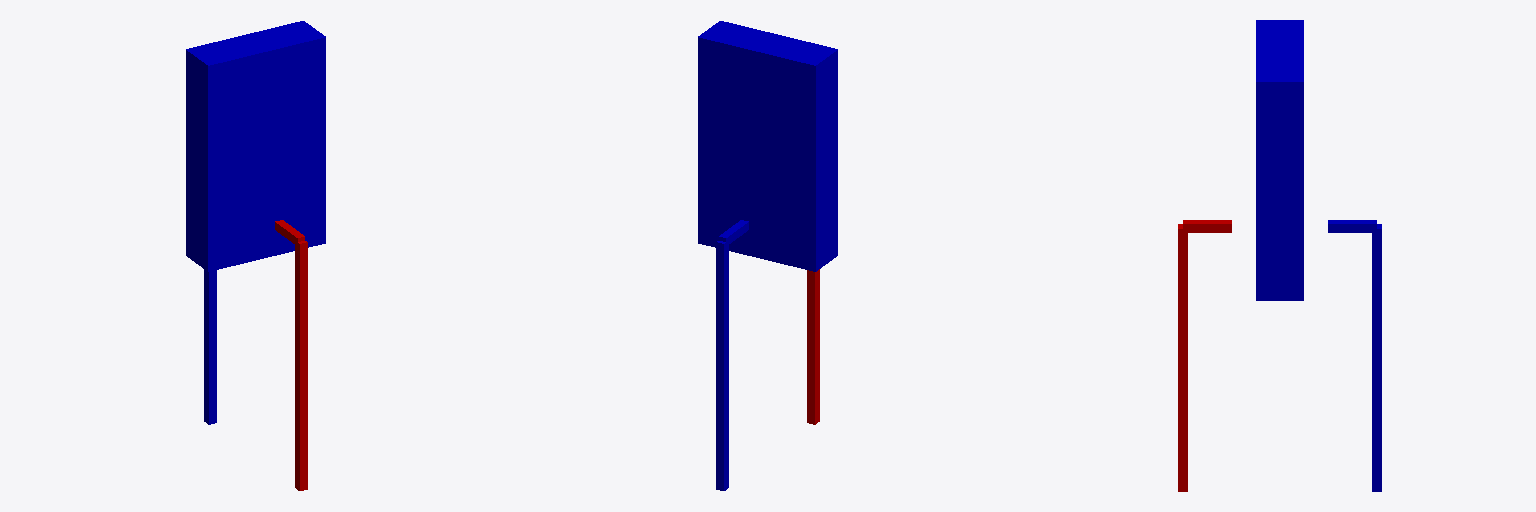
URDF robot description (Airbot):
<?xml version="1.0" ?>
<!-- =================================================================================== -->
<!-- |    This document was autogenerated by xacro from airbot4.xacro                  | -->
<!-- |    EDITING THIS FILE BY HAND IS NOT RECOMMENDED                                 | -->
<!-- =================================================================================== -->
<robot name="Airbot" xmlns:xacro="http://www.ros.org/wiki/xacro">
  <!--Structural Properties-->
  <link name="baselink"/>
  <link name="airbase">
    <visual>
      <origin rpy="0 0 0" xyz="0.0 0.0 0.05"/>
      <geometry>
        <!--mesh filename="package://gcop_urdf/meshes/pelican1.dae" scale="0.025 0.025 0.025"/-->
        <box size="0.3 0.1 0.5"/>
      </geometry>
      <material name="blue">
        <color rgba="0 0 0.8 1"/>
      </material>
    </visual>
    <inertial>
      <mass value="3"/>
      <inertia ixx="0.01296" ixy="0.0" ixz="0.0" iyy="0.01296" iyz="0.0" izz="0.02523"/>
    </inertial>
  </link>
  <link name="link1">
    <visual>
      <origin rpy="0 0 0" xyz="0.0 0.05 0.0"/>
      <material name="blue">
        <color rgba="0 0 0.8 1"/>
      </material>
      <geometry>
        <box size="0.02 0.1 0.02"/>
      </geometry>
    </visual>
    <inertial>
      <origin rpy="0 0 0" xyz="0.0 0.05 0.0"/>
      <mass value="0.1"/>
      <inertia ixx="0.000346666666667" ixy="0.0" ixz="0.0" iyy="2.66666666667e-05" iyz="0.0" izz="0.000346666666667"/>
    </inertial>
  </link>
  <link name="link2">
    <visual>
      <origin rpy="0 0 0" xyz="0.0 0.0 -0.15"/>
      <geometry>
        <box size="0.02 0.02 0.3"/>
      </geometry>
      <material name="blue">
        <color rgba="0 0 0.8 1"/>
      </material>
    </visual>
    <inertial>
      <origin rpy="0 0 0" xyz="0.0 0.0 -0.15"/>
      <mass value="0.15"/>
      <inertia ixx="0.00452" ixy="0.0" ixz="0.0" iyy="0.00452" iyz="0.0" izz="4e-05"/>
    </inertial>
  </link>
  <link name="link3">
    <visual>
      <origin rpy="0 0 0" xyz="0.0 0.0 -0.15"/>
      <geometry>
        <box size="0.02 0.02 0.3"/>
      </geometry>
      <material name="blue">
        <color rgba="0 0 0.8 1"/>
      </material>
    </visual>
    <inertial>
      <origin rpy="0 0 0" xyz="0.0 0.0 -0.15"/>
      <mass value="0.1"/>
      <inertia ixx="0.00301333333333" ixy="0.0" ixz="0.0" iyy="0.00301333333333" iyz="0.0" izz="2.66666666667e-05"/>
    </inertial>
  </link>
  <link name="link4">
    <visual>
      <origin rpy="0 0 0" xyz="0.0 -0.05 0.0"/>
      <material name="red">
        <color rgba="0.8 0 0 1"/>
      </material>
      <geometry>
        <box size="0.02 0.1 0.02"/>
      </geometry>
    </visual>
    <inertial>
      <origin rpy="0 0 0" xyz="0.0 -0.05 0.0"/>
      <mass value="0.1"/>
      <inertia ixx="0.000346666666667" ixy="0.0" ixz="0.0" iyy="2.66666666667e-05" iyz="0.0" izz="0.000346666666667"/>
    </inertial>
  </link>
  <link name="link5">
    <visual>
      <origin rpy="0 0 0" xyz="0.0 0.0 -0.15"/>
      <geometry>
        <box size="0.02 0.02 0.3"/>
      </geometry>
      <material name="red">
        <color rgba="0.8 0 0 1"/>
      </material>
    </visual>
    <inertial>
      <origin rpy="0 0 0" xyz="0.0 0.0 -0.15"/>
      <mass value="0.15"/>
      <inertia ixx="0.00452" ixy="0.0" ixz="0.0" iyy="0.00452" iyz="0.0" izz="4e-05"/>
    </inertial>
  </link>
  <link name="link6">
    <visual>
      <origin rpy="0 0 0" xyz="0.0 0.0 -0.15"/>
      <geometry>
        <box size="0.02 0.02 0.3"/>
      </geometry>
      <material name="red">
        <color rgba="0.8 0 0 1"/>
      </material>
    </visual>
    <inertial>
      <origin rpy="0 0 0" xyz="0.0 0.0 -0.15"/>
      <mass value="0.1"/>
      <inertia ixx="0.00301333333333" ixy="0.0" ixz="0.0" iyy="0.00301333333333" iyz="0.0" izz="2.66666666667e-05"/>
    </inertial>
  </link>
  <!-- Joints -->
  <joint name="basetoairbase" type="fixed">
    <parent link="baselink"/>
    <child link="airbase"/>
    <origin rpy="0 0 0" xyz="0 0 0"/>
  </joint>
  <joint name="airbasetolink1" type="revolute">
    <parent link="airbase"/>
    <child link="link1"/>
    <origin rpy="0 0 0" xyz="0 0.1 -0.1"/>
    <axis xyz="0 0 1"/>
    <limit effort="30" lower="-3.14" upper="3.14" velocity="10.0"/>
  </joint>
  <joint name="link1tolink2" type="revolute">
    <parent link="link1"/>
    <child link="link2"/>
    <origin rpy="0 0 0" xyz="0 0.1 0"/>
    <axis xyz="0 1 0"/>
    <limit effort="30" lower="-3.14" upper="3.14" velocity="10.0"/>
  </joint>
  <joint name="link2tolink3" type="revolute">
    <parent link="link2"/>
    <child link="link3"/>
    <origin rpy="0 0 0" xyz="0 0 -0.3"/>
    <axis xyz="0 1 0"/>
    <limit effort="30" lower="-3.14" upper="3.14" velocity="10.0"/>
  </joint>
  <joint name="airbasetolink4" type="revolute">
    <parent link="airbase"/>
    <child link="link4"/>
    <origin rpy="0 0 0" xyz="0 -0.1 -0.1"/>
    <axis xyz="0 0 1"/>
    <limit effort="30" lower="-3.14" upper="3.14" velocity="10.0"/>
  </joint>
  <joint name="link4tolink5" type="revolute">
    <parent link="link4"/>
    <child link="link5"/>
    <origin rpy="0 0 0" xyz="0 -0.1 0"/>
    <axis xyz="0 1 0"/>
    <limit effort="30" lower="-3.14" upper="3.14" velocity="10.0"/>
  </joint>
  <joint name="link5tolink6" type="revolute">
    <parent link="link5"/>
    <child link="link6"/>
    <origin rpy="0 0 0" xyz="0 0 -0.3"/>
    <axis xyz="0 1 0"/>
    <limit effort="30" lower="-3.14" upper="3.14" velocity="10.0"/>
  </joint>
</robot>

--- Render facts (derived) ---
Views: 3 orthographic renders of the robot side by side, from view 1: azimuth 30°, elevation 25°; view 2: azimuth 150°, elevation 25°; view 3: azimuth 270°, elevation 25°.
Robot: Airbot — 8 links, 7 joints (6 revolute, 1 fixed); root link baselink; default pose: every joint at zero.
Links seen in each view (by area): view 1: airbase, link5, link3, link6; view 2: airbase, link2, link6, link3; view 3: airbase, link5, link2, link3, link6, link1, link4.
Link boxes in pixels (x1,y1,x2,y2): airbase: (186,21,325,271); link5: (295,241,307,367); link3: (204,298,216,424); link6: (295,365,307,490); airbase: (698,21,837,271); link2: (716,241,728,367); link6: (807,298,819,424); link3: (716,365,728,490); airbase: (1256,20,1303,300); link5: (1178,224,1187,359); link2: (1372,224,1381,359); link3: (1372,360,1381,491); link6: (1178,360,1187,491); link1: (1328,220,1376,232); link4: (1183,220,1231,232).
Bounding box of the posed robot: 0.3 × 0.42 × 1 m (x, y, z).
Geometry: primitives only (box / cylinder / sphere), no mesh files.